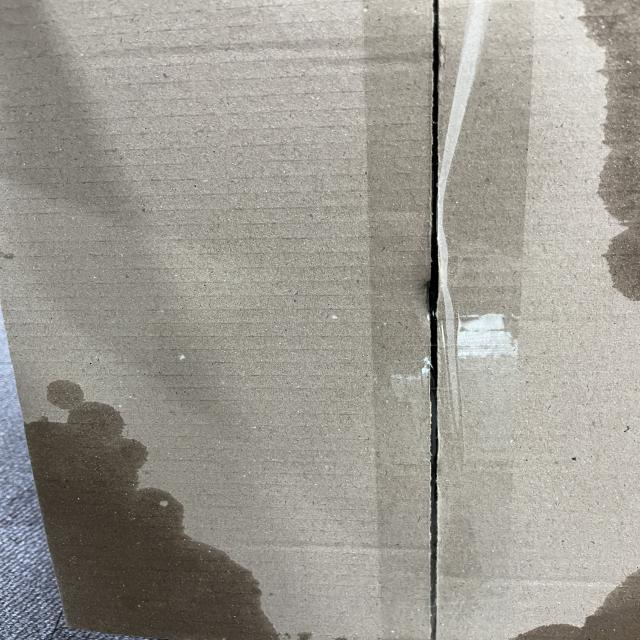wet: (13, 384, 266, 640), (562, 0, 640, 308), (512, 571, 640, 637)
